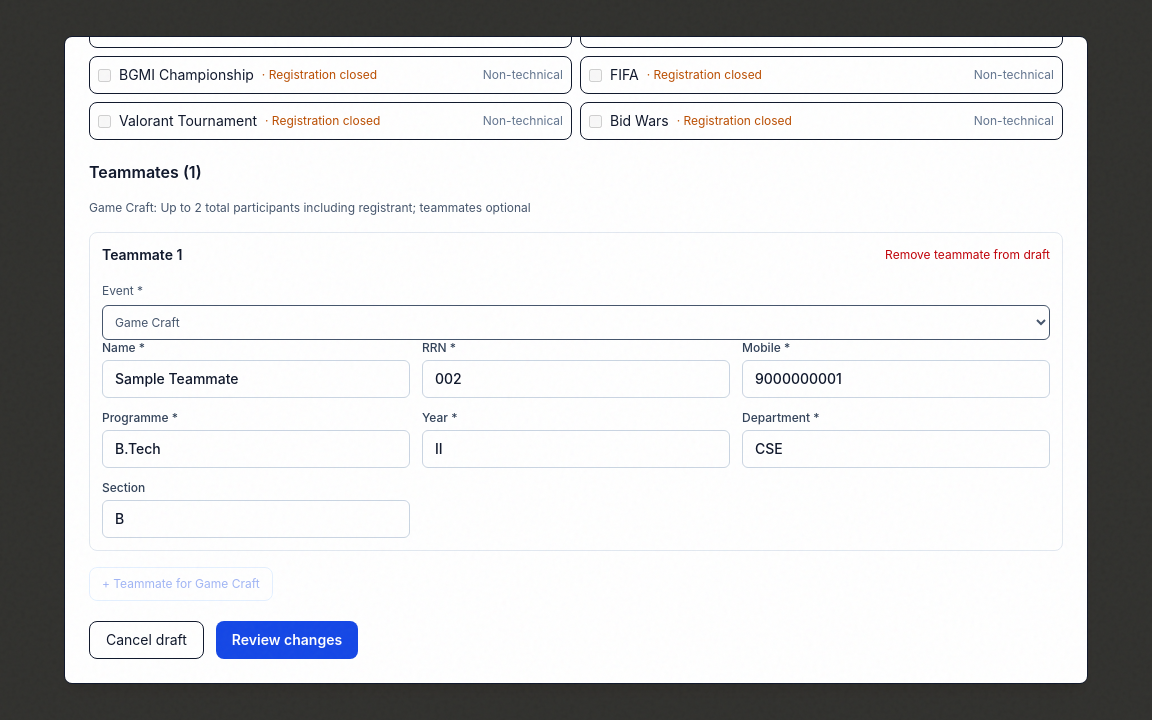
Scenario: blocks new corrected passes after all-event registration closes
(page scrolled)
Click the button "Review changes" at (287, 640), box [216,621,358,659]
(page scrolled)
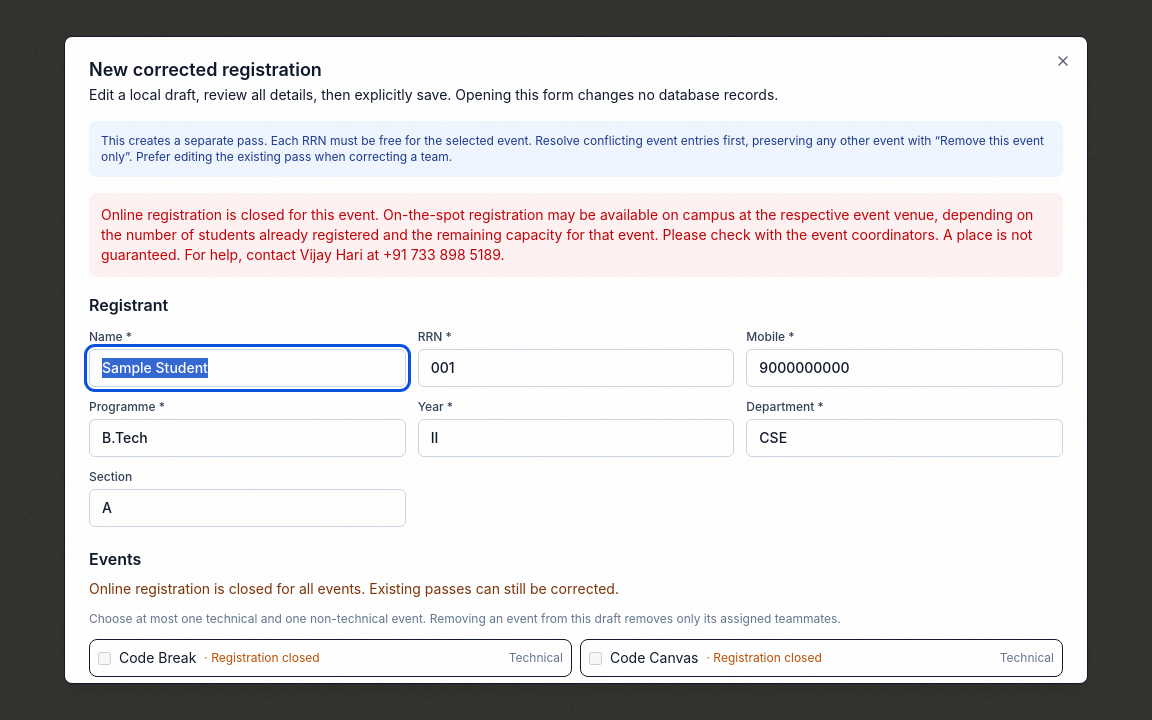
Result: the message shows "Online registration is closed for this event" at [101,206,1033,263]
